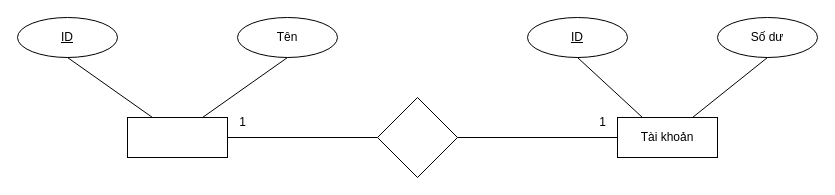
Image size: 835x195. Some labels were removed from this diagram. Each missing label, with the box of its shape:
Chỉ sở hữu: (376, 96, 458, 178)
Khách Hàng: (126, 116, 228, 158)
